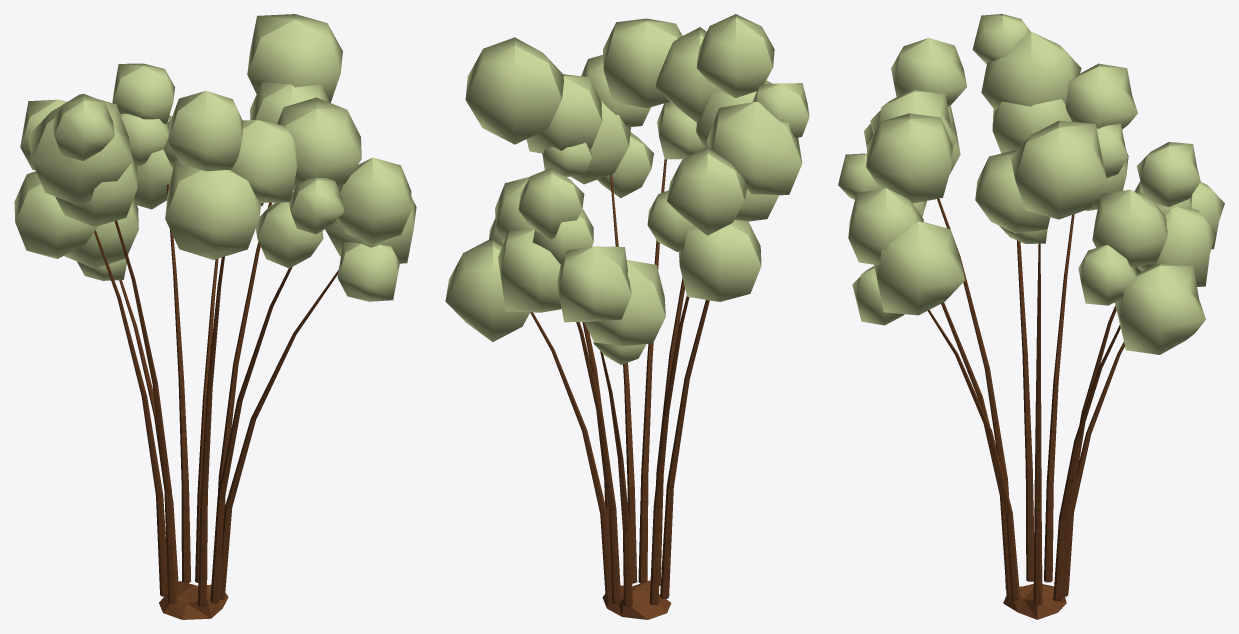
Rendered from dense-temperate-forest-flora-hazel-old-3a8dfbcb__28331.glb.
3 views of the same model, side by side, from view 1: azimuth 30°, elevation 25°; view 2: azimuth 150°, elevation 25°; view 3: azimuth 270°, elevation 25° (orthographic). The views are drawn at different scales.
Parts seen in each view (by area): view 1: hazel-old; view 2: hazel-old; view 3: hazel-old.
Boxes of the visible parts, box(x1,y1,x2,y2) form: hazel-old: box(14, 14, 416, 619); hazel-old: box(445, 14, 809, 619); hazel-old: box(838, 14, 1224, 619).
Bounding box in the file's own units: 4.9 × 8.13 × 5.23.
2 materials, 1 textured.
